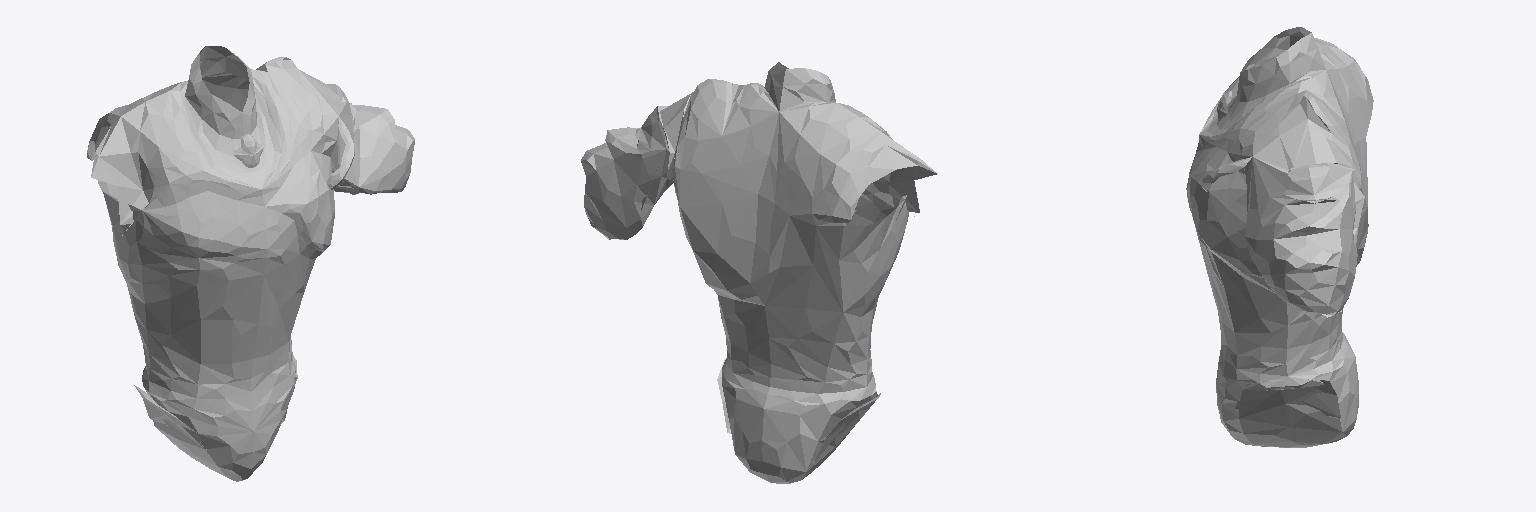
The model's file is p_torso.obj.
The picture shows the model from 3 angles: view 1: azimuth 30°, elevation 25°; view 2: azimuth 150°, elevation 25°; view 3: azimuth 270°, elevation 25°; orthographic projection.
Parts seen in each view (by area): view 1: ct_gign.ct_gign_reference.smd.mesh_2; view 2: ct_gign.ct_gign_reference.smd.mesh_2; view 3: ct_gign.ct_gign_reference.smd.mesh_2.
Boxes of the visible parts, <box> form: ct_gign.ct_gign_reference.smd.mesh_2: <box>87,46,414,481</box>; ct_gign.ct_gign_reference.smd.mesh_2: <box>581,62,937,483</box>; ct_gign.ct_gign_reference.smd.mesh_2: <box>1186,27,1373,447</box>.
Size of the model in its own units: 29.81 by 35.15 by 14.4.